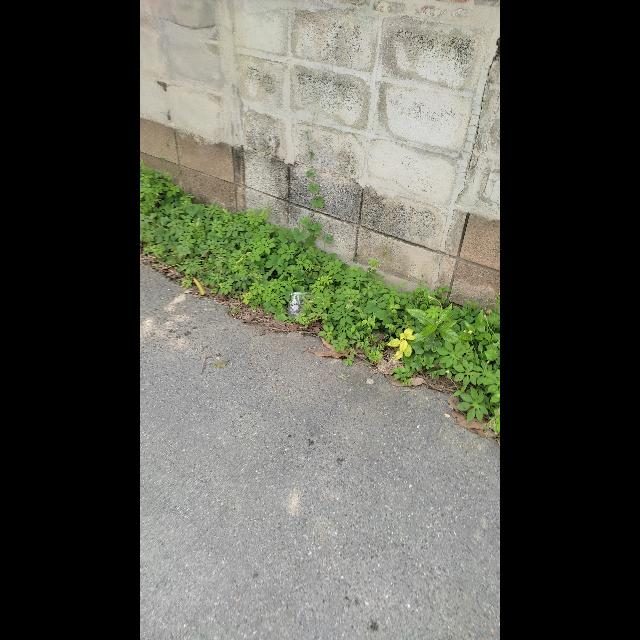plastic_cup: (286, 292, 310, 320)
